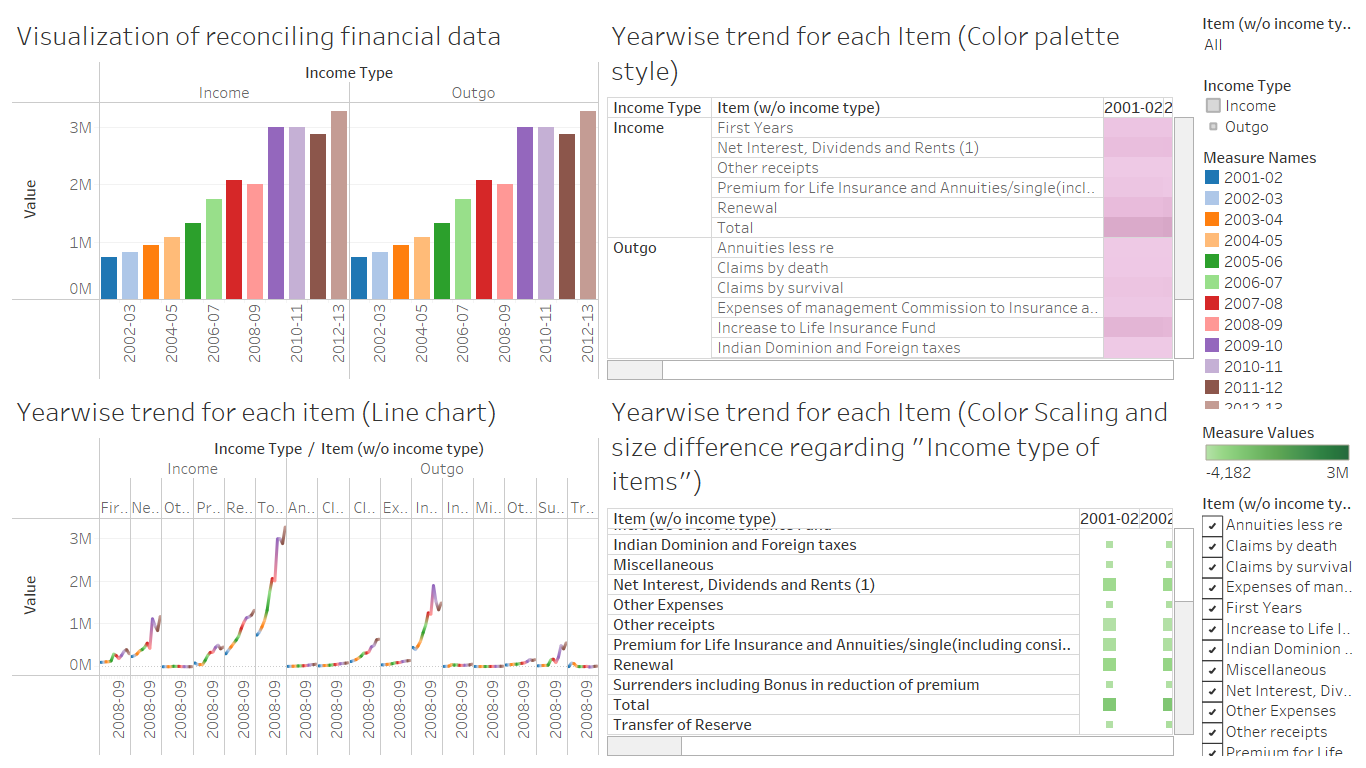

The page's visual inventory and layout, read from the dashboard file:
{"tool":"tableau","page":{"name":"Data for Revenue Account of Life Insurance Corporation interactive dashboard","canvas":[1366,768],"ordinal":0},"visuals":[{"type":"worksheet","box":[0,0,1366,768]},{"type":"worksheet","param":"horz","box":[8,8,1350,752]},{"type":"worksheet","box":[8,8,1190,752]},{"type":"worksheet","title":"Visualization of reconciling financial data","mark":"Automatic","cols":["Item - Split 2"],"box":[8,8,595,376]},{"type":"worksheet","title":"Yearwise trend for each Item (Color palette style)","mark":"Automatic","rows":["Item - Split 2","Item - Split 3"],"box":[603,8,595,376]},{"type":"worksheet","param":"vert","box":[1198,8,160,752]},{"type":"worksheet","title":"Yearwise trend for each item (Line chart)","mark":"Line","cols":["Item - Split 2","Item - Split 3"],"param":"[federated.06z5hqd1jpws6114jj62u0yq392j].[none:Item - Split 3:nk]","box":[1198,8,160,61]},{"type":"worksheet","title":"Yearwise trend for each Item (Color Scaling and size difference regarding \"Income type of items\")","mark":"Automatic","rows":["Item - Split 3"],"param":"[federated.06z5hqd1jpws6114jj62u0yq392j].[none:Item - Split 2:nk]","box":[1198,69,160,72]},{"type":"worksheet","title":"Yearwise trend for each item (Line chart)","mark":"Line","cols":["Item - Split 2","Item - Split 3"],"param":"[federated.06z5hqd1jpws6114jj62u0yq392j].[:Measure Names]","box":[1198,141,160,273]},{"type":"worksheet","title":"Yearwise trend for each item (Line chart)","mark":"Line","cols":["Item - Split 2","Item - Split 3"],"box":[8,384,595,376]},{"type":"worksheet","title":"Yearwise trend for each Item (Color Scaling and size difference regarding \"Income type of items\")","mark":"Automatic","rows":["Item - Split 3"],"box":[603,384,595,376]},{"type":"worksheet","title":"Yearwise trend for each Item (Color Scaling and size difference regarding \"Income type of items\")","mark":"Automatic","rows":["Item - Split 3"],"param":"[federated.06z5hqd1jpws6114jj62u0yq392j].[Multiple Values]","box":[1198,414,160,73]},{"type":"worksheet","title":"Visualization of reconciling financial data","mark":"Automatic","cols":["Item - Split 2"],"param":"[federated.06z5hqd1jpws6114jj62u0yq392j].[none:Item - Split 3:nk]","box":[1198,487,160,273]}]}

Visuals, with their boxes in screenshot pixels (x1, y1, x2, y2), scaled from the page's 1366x768 canvas onto the 1366x768 screenshot:
worksheet: 0,0,1365,767
worksheet: 8,8,1358,760
worksheet: 8,8,1198,760
"Visualization of reconciling financial data" worksheet: 8,8,603,384
"Yearwise trend for each Item (Color palette style)" worksheet: 603,8,1198,384
worksheet: 1198,8,1358,760
"Yearwise trend for each item (Line chart)" worksheet (Line marks): 1198,8,1358,69
"Yearwise trend for each Item (Color Scaling and size difference regarding "Income type of items")" worksheet: 1198,69,1358,141
"Yearwise trend for each item (Line chart)" worksheet (Line marks): 1198,141,1358,414
"Yearwise trend for each item (Line chart)" worksheet (Line marks): 8,384,603,760
"Yearwise trend for each Item (Color Scaling and size difference regarding "Income type of items")" worksheet: 603,384,1198,760
"Yearwise trend for each Item (Color Scaling and size difference regarding "Income type of items")" worksheet: 1198,414,1358,487
"Visualization of reconciling financial data" worksheet: 1198,487,1358,760
